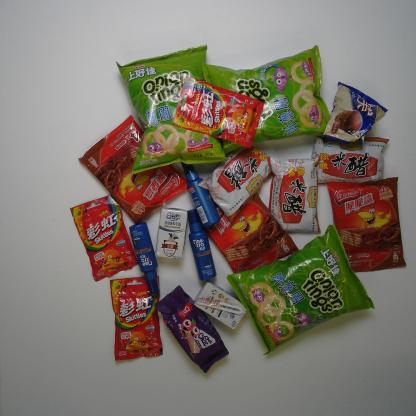Candy: (172, 76, 263, 149), (70, 192, 139, 283), (108, 274, 164, 363)
Dessert: (79, 114, 194, 227), (202, 180, 300, 277), (326, 176, 408, 276), (156, 286, 229, 374), (322, 80, 390, 146)
Milk: (192, 281, 246, 330), (154, 206, 188, 262)
Personal Hygiene: (179, 156, 221, 230), (186, 208, 217, 282), (129, 222, 160, 296)
Puffed Food: (226, 224, 375, 356), (115, 44, 226, 176), (203, 43, 333, 154)
Seasoner: (199, 138, 277, 226), (264, 156, 322, 234), (308, 134, 389, 187)
